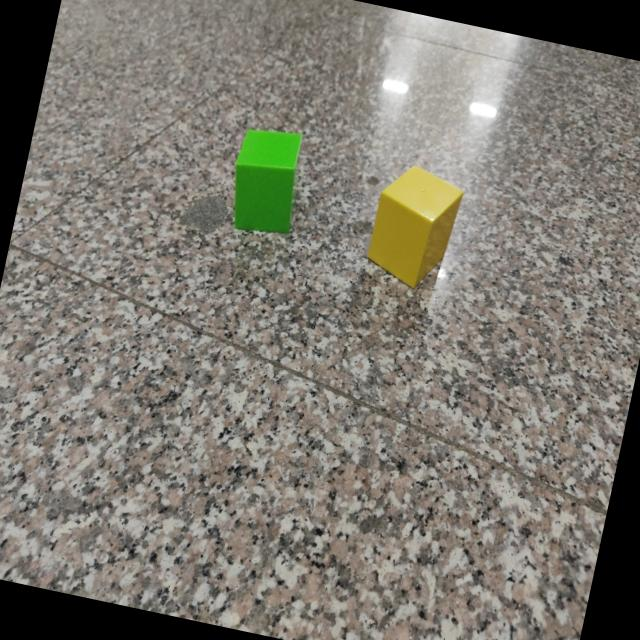green: (232, 129, 302, 236)
yellow: (365, 166, 462, 292)
